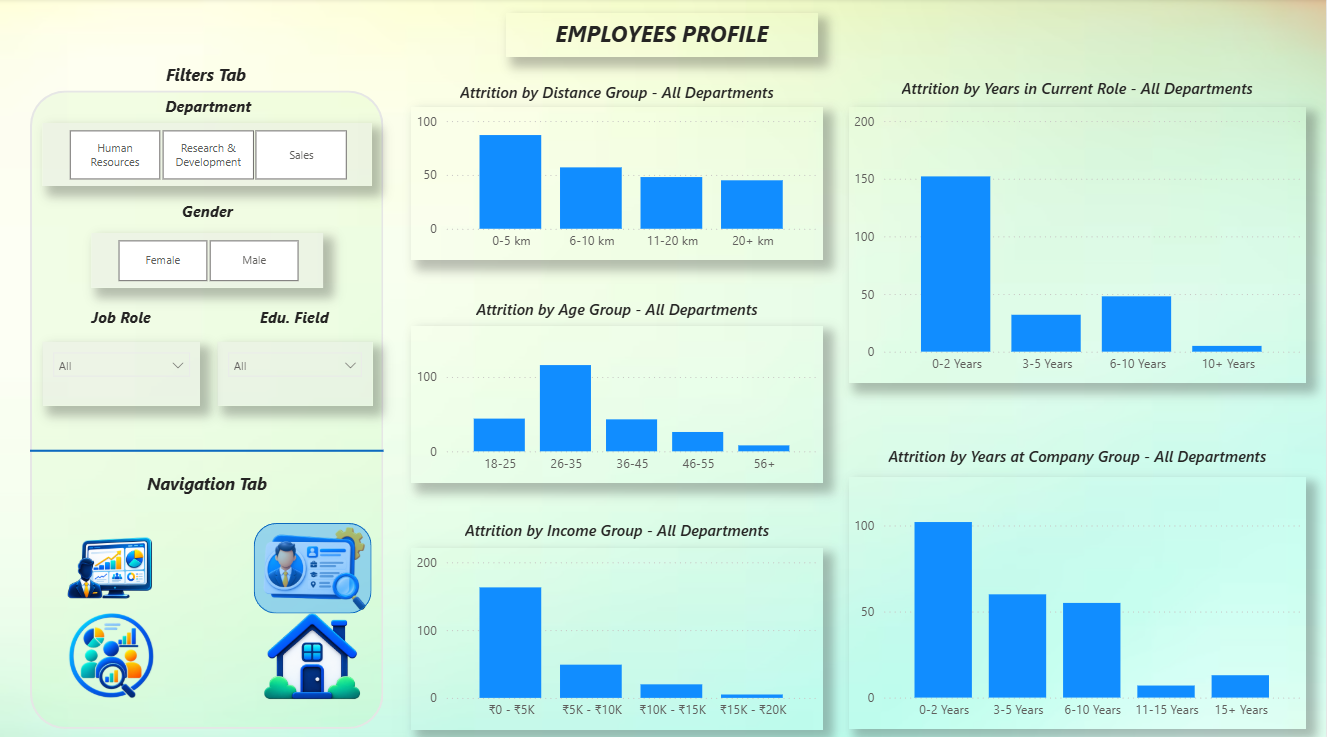

Layout of this report page (visuals, bound fields, positions):
{"tool":"powerbi","page":{"name":"Employee Profile","canvas":[1280,720],"ordinal":3},"visuals":[{"type":"clusteredColumnChart","fields":{"Category":["hr_attrition_project hr_attrition.Age Group"],"Y":["Key Measures.Attrition count"]},"box":[397.4,316.1,397.4,151.6],"z":0},{"type":"clusteredColumnChart","fields":{"Category":["hr_attrition_project hr_attrition.Income Group"],"Y":["Key Measures.Attrition count"]},"box":[397.4,530.7,397.4,174.9],"z":1000},{"type":"clusteredColumnChart","fields":{"Category":["hr_attrition_project hr_attrition.Distance Group"],"Y":["Key Measures.Attrition count"]},"box":[397.4,105.2,397.4,148],"z":2000},{"type":"clusteredColumnChart","fields":{"Category":["hr_attrition_project hr_attrition.Years at Company Group"],"Y":["Key Measures.Attrition count"]},"box":[819.3,462.2,441.4,243.3],"z":3000},{"type":"clusteredColumnChart","fields":{"Category":["hr_attrition_project hr_attrition.Years in Current Role Group"],"Y":["Key Measures.Attrition count"]},"box":[819.3,105.2,441.4,266.6],"z":4000},{"type":"shape","box":[29.3,89.3,341.2,616.3],"z":5000},{"type":"slicer","fields":{"Values":["hr_attrition_project hr_attrition.Department"]},"box":[41.6,121.1,317.9,61.1],"z":6000},{"type":"slicer","fields":{"Values":["hr_attrition_project hr_attrition.Gender"]},"box":[88,226.2,224.4,53.1],"z":7000},{"type":"slicer","fields":{"Values":["hr_attrition_project hr_attrition.EducationField"]},"box":[210.3,331.4,149.6,61.5],"z":8000},{"type":"slicer","fields":{"Values":["hr_attrition_project hr_attrition.JobRole"]},"box":[41.6,331.4,152,61.5],"z":9000},{"type":"cardVisual","fields":{"Data":["Key Measures.Income Group Title"]},"box":[397.4,485.5,397.4,55],"z":10000},{"type":"cardVisual","fields":{"Data":["Key Measures.Age Group Title"]},"box":[397.4,270.2,397.4,58.7],"z":11000},{"type":"cardVisual","fields":{"Data":["Key Measures.Years in Current Role Title"]},"box":[819.3,57.5,441.4,57.5],"z":12000},{"type":"cardVisual","fields":{"Data":["Key Measures.Year at company Title"]},"box":[819.3,412.1,441.4,56.3],"z":13000},{"type":"cardVisual","fields":{"Data":["Key Measures.Distance Group Title"]},"box":[397.4,57.5,397.4,63.6],"z":14000},{"type":"textbox","box":[243.3,293.5,80.8,35],"z":15000},{"type":"textbox","box":[152.9,89.3,95.3,35],"z":16000},{"type":"textbox","box":[167.5,190.8,65.1,35],"z":17000},{"type":"textbox","box":[74.6,293.5,84.5,35],"z":18000},{"type":"textbox","box":[50.1,57.5,300.4,32.6],"z":19000},{"type":"textbox","box":[489.1,14.7,300.4,42.2],"z":20000},{"type":"image","box":[50,506.2,117,87],"z":21000},{"type":"image","box":[242.5,506.2,117,87],"z":22000},{"type":"image","box":[50,593.8,117,87],"z":23000},{"type":"shape","box":[28.8,412.5,341.2,48.8],"z":24000},{"type":"textbox","box":[50,452.5,300.4,32.6],"z":25000},{"type":"image","box":[245,593.8,112.5,87.5],"z":25001},{"type":"shape","box":[245,506.2,113.8,87.5],"z":25002}]}

Visuals, with their boxes in screenshot pixels (x1, y1, x2, y2), scaled from the page's 1280x720 canvas onto the 1327x737 screenshot:
clusteredColumnChart - hr_attrition_project hr_attrition.Age Group x Key Measures.Attrition count: (412,324,824,479)
clusteredColumnChart - hr_attrition_project hr_attrition.Income Group x Key Measures.Attrition count: (412,543,824,722)
clusteredColumnChart - hr_attrition_project hr_attrition.Distance Group x Key Measures.Attrition count: (412,108,824,259)
clusteredColumnChart - hr_attrition_project hr_attrition.Years at Company Group x Key Measures.Attrition count: (849,473,1307,722)
clusteredColumnChart - hr_attrition_project hr_attrition.Years in Current Role Group x Key Measures.Attrition count: (849,108,1307,381)
shape: (30,91,384,722)
slicer - hr_attrition_project hr_attrition.Department: (43,124,373,187)
slicer - hr_attrition_project hr_attrition.Gender: (91,232,324,286)
slicer - hr_attrition_project hr_attrition.EducationField: (218,339,373,402)
slicer - hr_attrition_project hr_attrition.JobRole: (43,339,201,402)
cardVisual - Key Measures.Income Group Title: (412,497,824,553)
cardVisual - Key Measures.Age Group Title: (412,277,824,337)
cardVisual - Key Measures.Years in Current Role Title: (849,59,1307,118)
cardVisual - Key Measures.Year at company Title: (849,422,1307,479)
cardVisual - Key Measures.Distance Group Title: (412,59,824,124)
textbox: (252,300,336,336)
textbox: (159,91,257,127)
textbox: (174,195,241,231)
textbox: (77,300,165,336)
textbox: (52,59,363,92)
textbox: (507,15,818,58)
image: (52,518,173,607)
image: (251,518,373,607)
image: (52,608,173,697)
shape: (30,422,384,472)
textbox: (52,463,363,497)
image: (254,608,371,697)
shape: (254,518,372,608)
